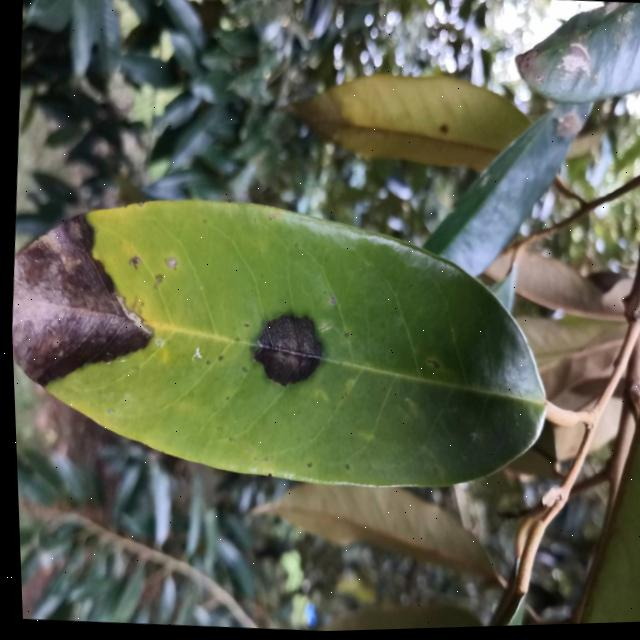Phytophthora: (6, 194, 178, 444), (207, 267, 353, 441)
